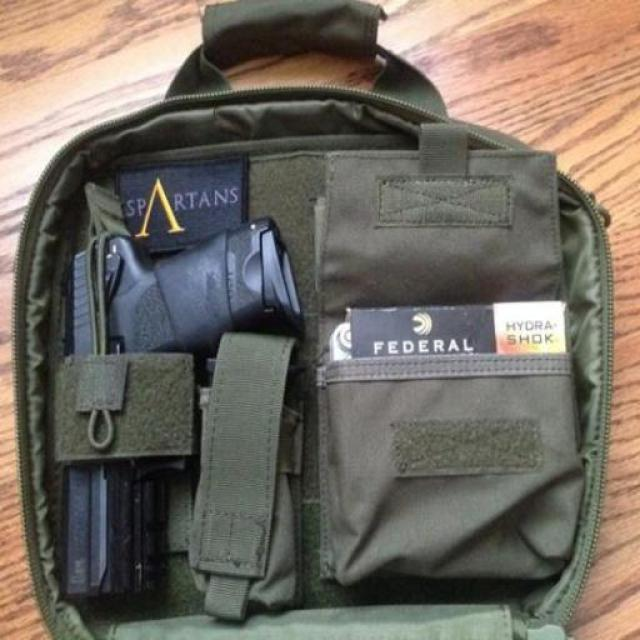pistol: (56, 217, 298, 600)
